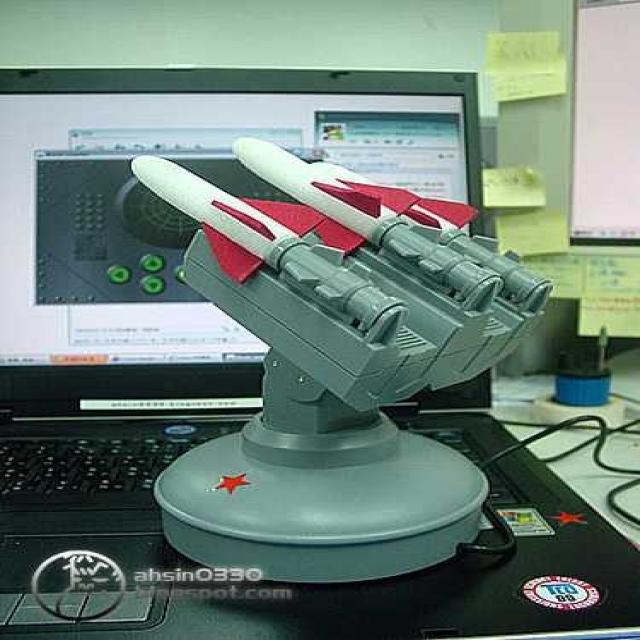missile: (126, 146, 341, 288), (228, 138, 427, 245)
